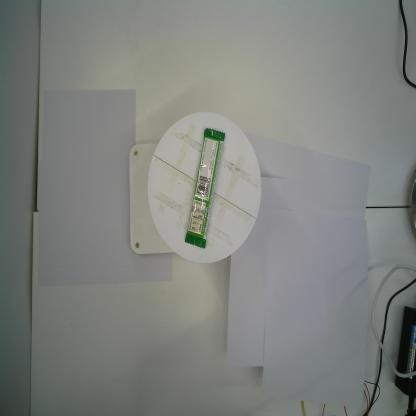Chocolate: (184, 126, 226, 249)
